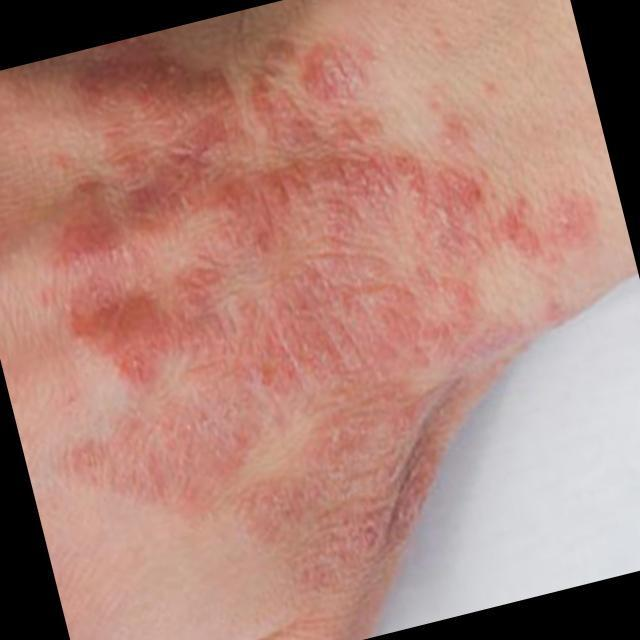Eczema: (53, 40, 598, 561)
